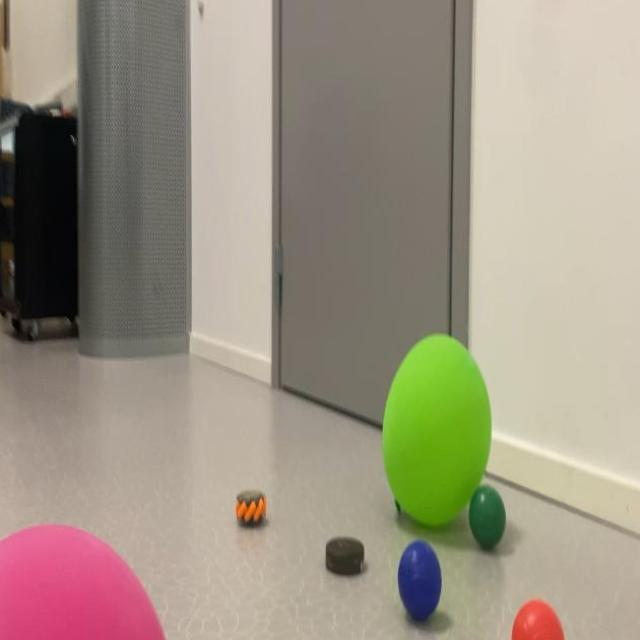blue ball: (395, 543, 446, 627)
green ball: (473, 492, 519, 572)
red ball: (505, 591, 567, 640)
